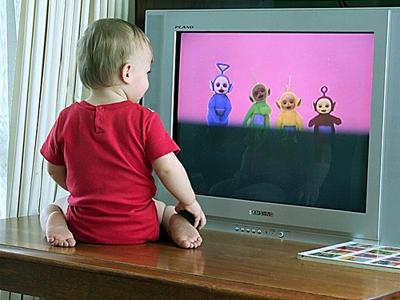person: (41, 18, 206, 250)
